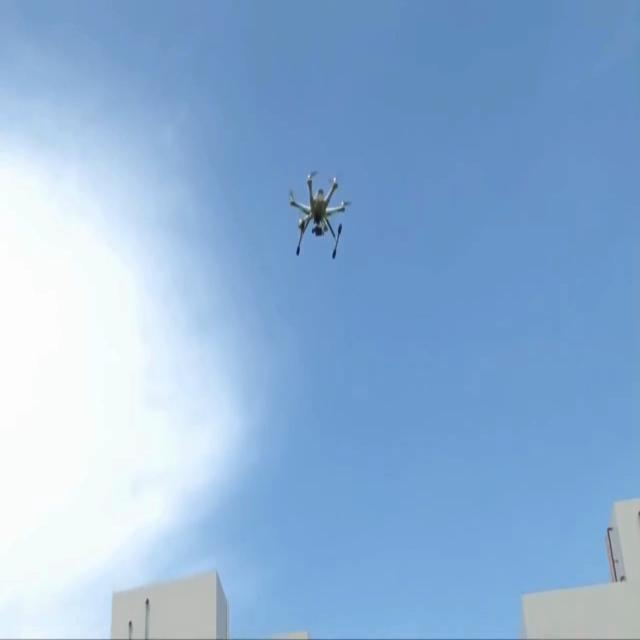drone: (288, 169, 352, 259)
